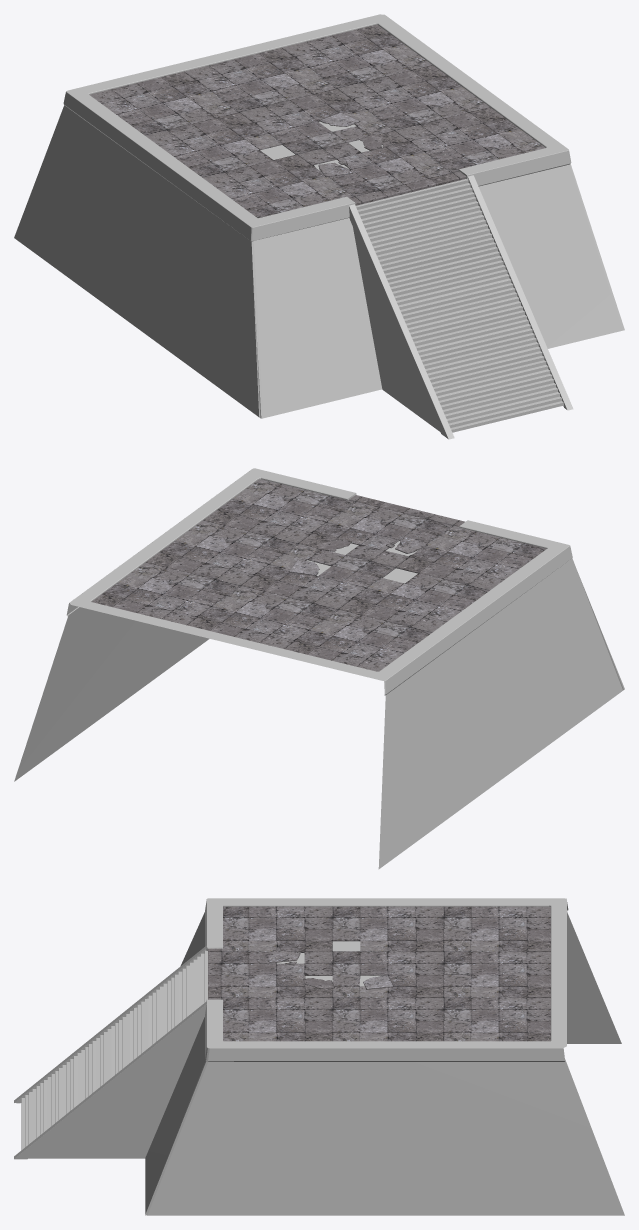
The model's file is SM_InnerCastle_A.FBX.
The picture shows the model from 3 angles, top to bottom: view 1: azimuth 30°, elevation 25°; view 2: azimuth 150°, elevation 25°; view 3: azimuth 270°, elevation 25°; orthographic projection. The views are drawn at different scales.
Parts seen in each view (by area): view 1: SM_InnerCastle_A; view 2: SM_InnerCastle_A; view 3: SM_InnerCastle_A.
Part boxes in pixels (x1,y1,x2,y2): SM_InnerCastle_A: (14, 14, 624, 439); SM_InnerCastle_A: (14, 468, 624, 869); SM_InnerCastle_A: (14, 898, 624, 1215).
Bounding box in the file's own units: 2176 × 3277 × 928.
